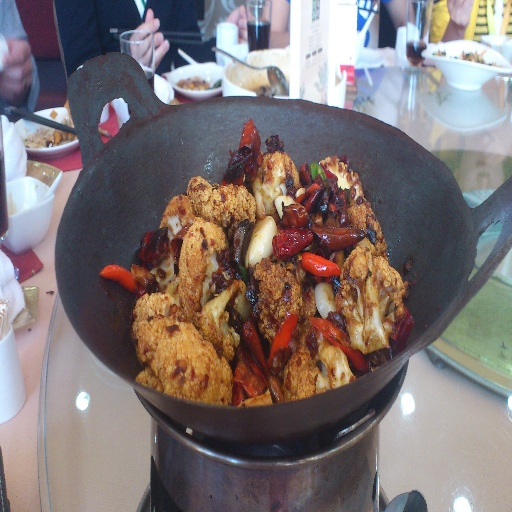hand: (0, 8, 37, 108), (129, 7, 170, 78), (226, 5, 254, 40), (445, 0, 474, 29)
